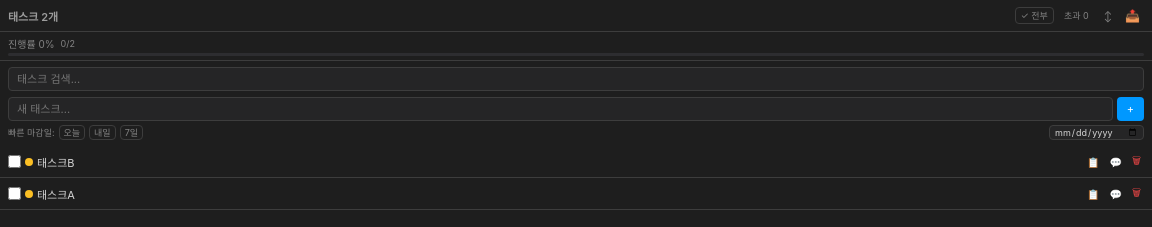
Test: TasksPanel › 검색창에서 ESC 입력 시 검색어가 초기화된다
Step 1. Type "태스크A" into the field with placeholder "태스크 검색..." → (576, 79), box [8,67,1144,91]
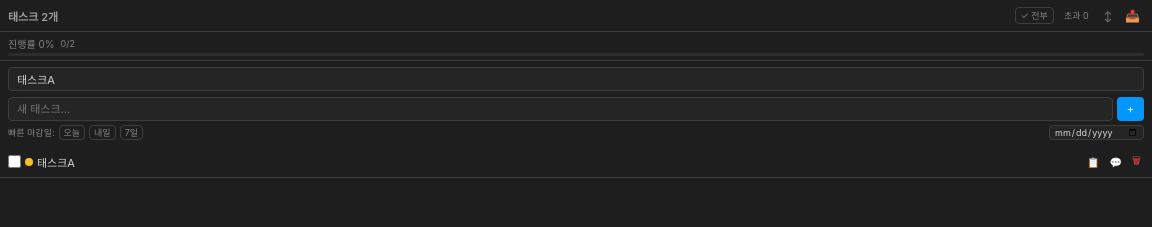
Expected: the text "태스크B" is gone
Step 2. Press Escape in the field with placeholder "태스크 검색...", box [8,67,1144,91]
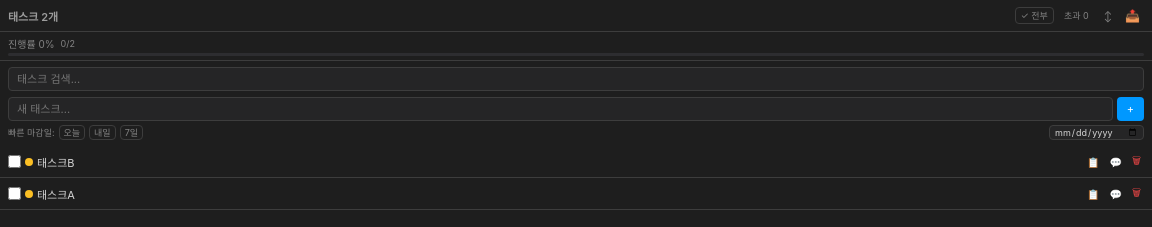
Expected: the text "태스크B" is shown, [37,156,75,170]
